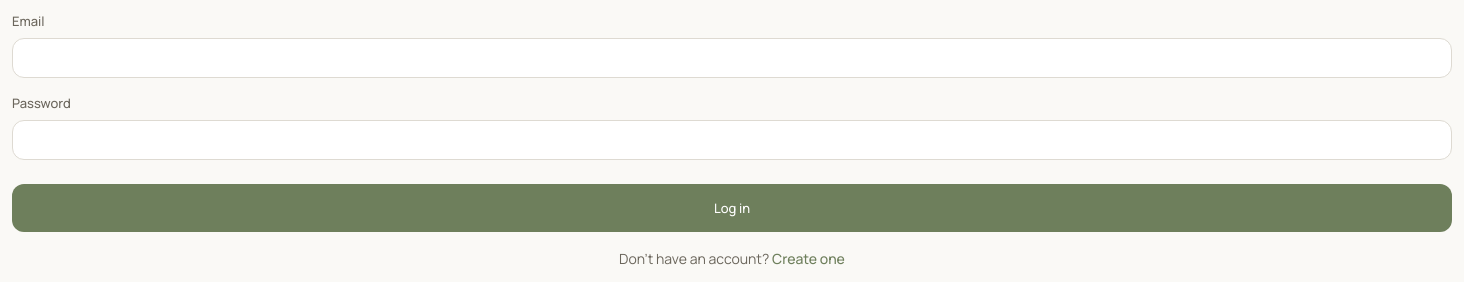
it: LoginForm › logs in and navigates to the app on success
Type "user@example.com" into the field labelled "Email" at point(732, 58), box [12,38,1452,78]
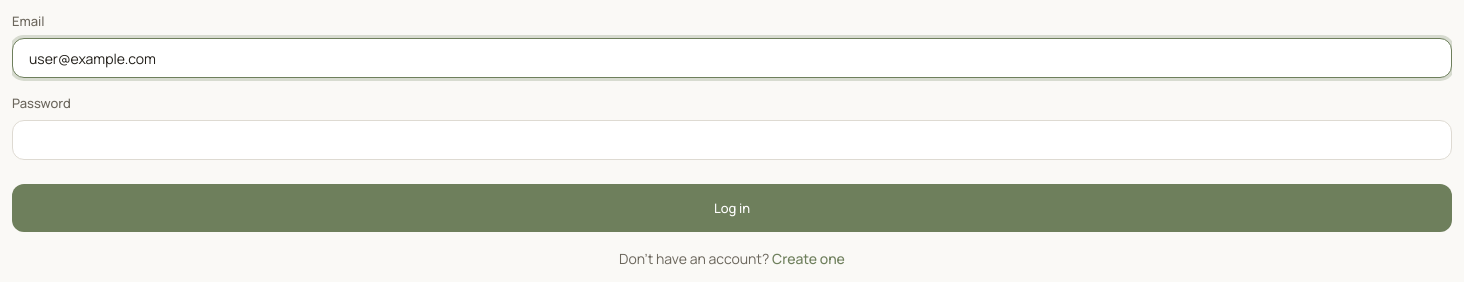
Type "supersecret123" into the password field labelled "Password" at point(732, 140), box [12,120,1452,160]
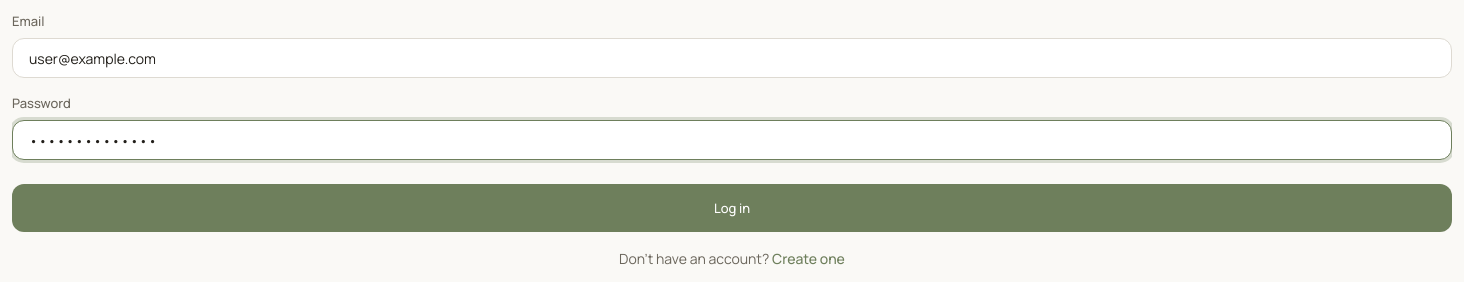
Click the button "Log in" at point(732, 208), box [12,184,1452,232]
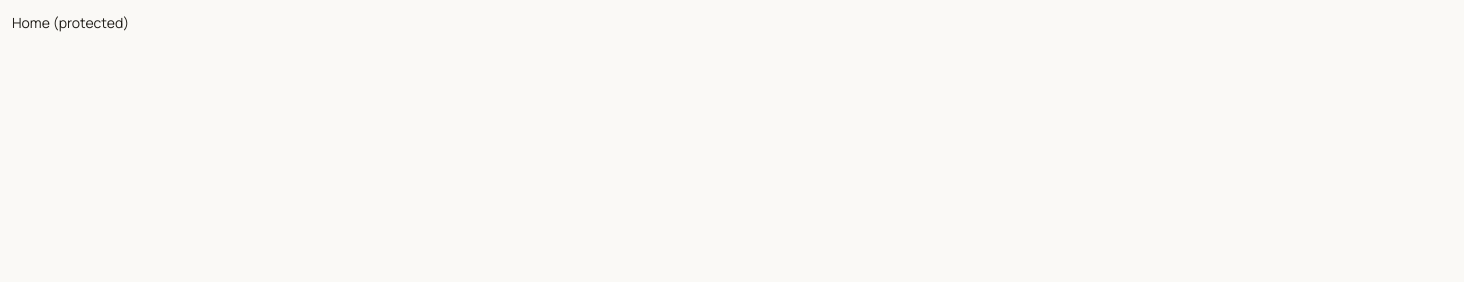
Expected: the text "Home (protected)" is shown, [12,13,129,32]
